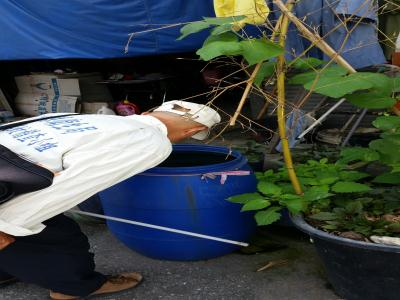bowl: (98, 140, 265, 264)
